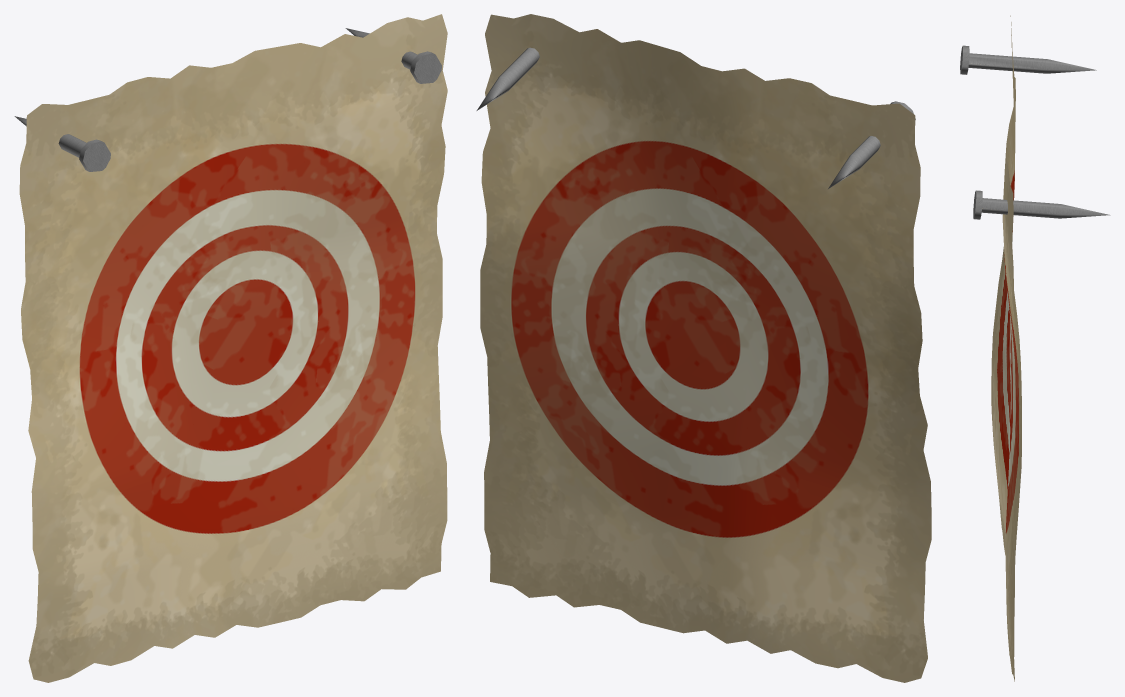
File: ExplodingTarget_Solid.glb
3 views of the same model, side by side, from view 1: azimuth 30°, elevation 25°; view 2: azimuth 150°, elevation 25°; view 3: azimuth 270°, elevation 25° (orthographic). The views are drawn at different scales.
Visible parts, largest first — view 1: Target; view 2: Target; view 3: Target.
Part boxes in pixels (<box>): Target: <box>14,14,447,682</box>; Target: <box>476,14,931,682</box>; Target: <box>960,15,1110,681</box>.
Size of the model in its own units: 0.7369 by 0.9457 by 0.2563.
1 material, 1 textured.
